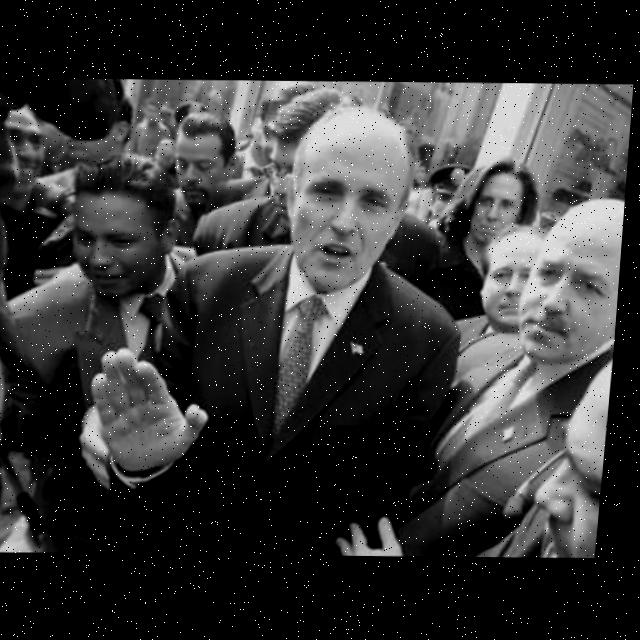face: (281, 107, 418, 295), (513, 186, 626, 367), (64, 163, 177, 301), (172, 120, 245, 215), (480, 230, 543, 332), (470, 159, 530, 251), (2, 112, 55, 201)
